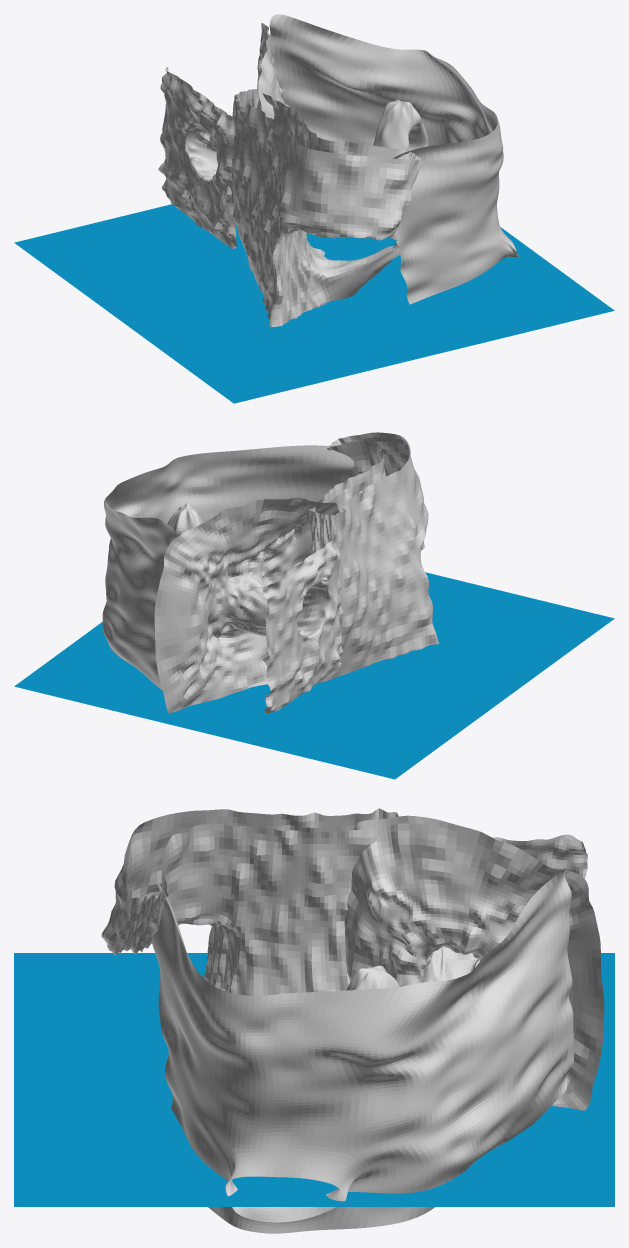
File: Clifs.fbx
The picture shows the model from 3 angles, top to bottom: view 1: azimuth 30°, elevation 25°; view 2: azimuth 150°, elevation 25°; view 3: azimuth 270°, elevation 25°; orthographic projection. The views are drawn at different scales.
Parts seen in each view (by area): view 1: Plane, Plane.002, Cube, Plane.001, Cylinder; view 2: Plane, Plane.001, Cube, Plane.002, Cylinder; view 3: Plane.002, Plane, Cube, Plane.001, Cylinder.
Boxes of the visible parts, x1,y1,x2,y2 form: Plane: (14,204,614,403); Plane.002: (269,14,519,304); Cube: (229,88,424,326); Plane.001: (158,23,289,248); Cylinder: (373,99,428,239); Plane: (14,572,614,779); Plane.001: (154,497,343,713); Cube: (262,432,439,682); Plane.002: (102,445,353,690); Cylinder: (167,503,203,538); Plane.002: (151,868,573,1233); Plane: (14,953,614,1206); Cube: (101,808,398,995); Plane.001: (344,815,604,1110); Cylinder: (346,965,399,990).
Size of the model in its own units: 3419 by 1942 by 3419.
